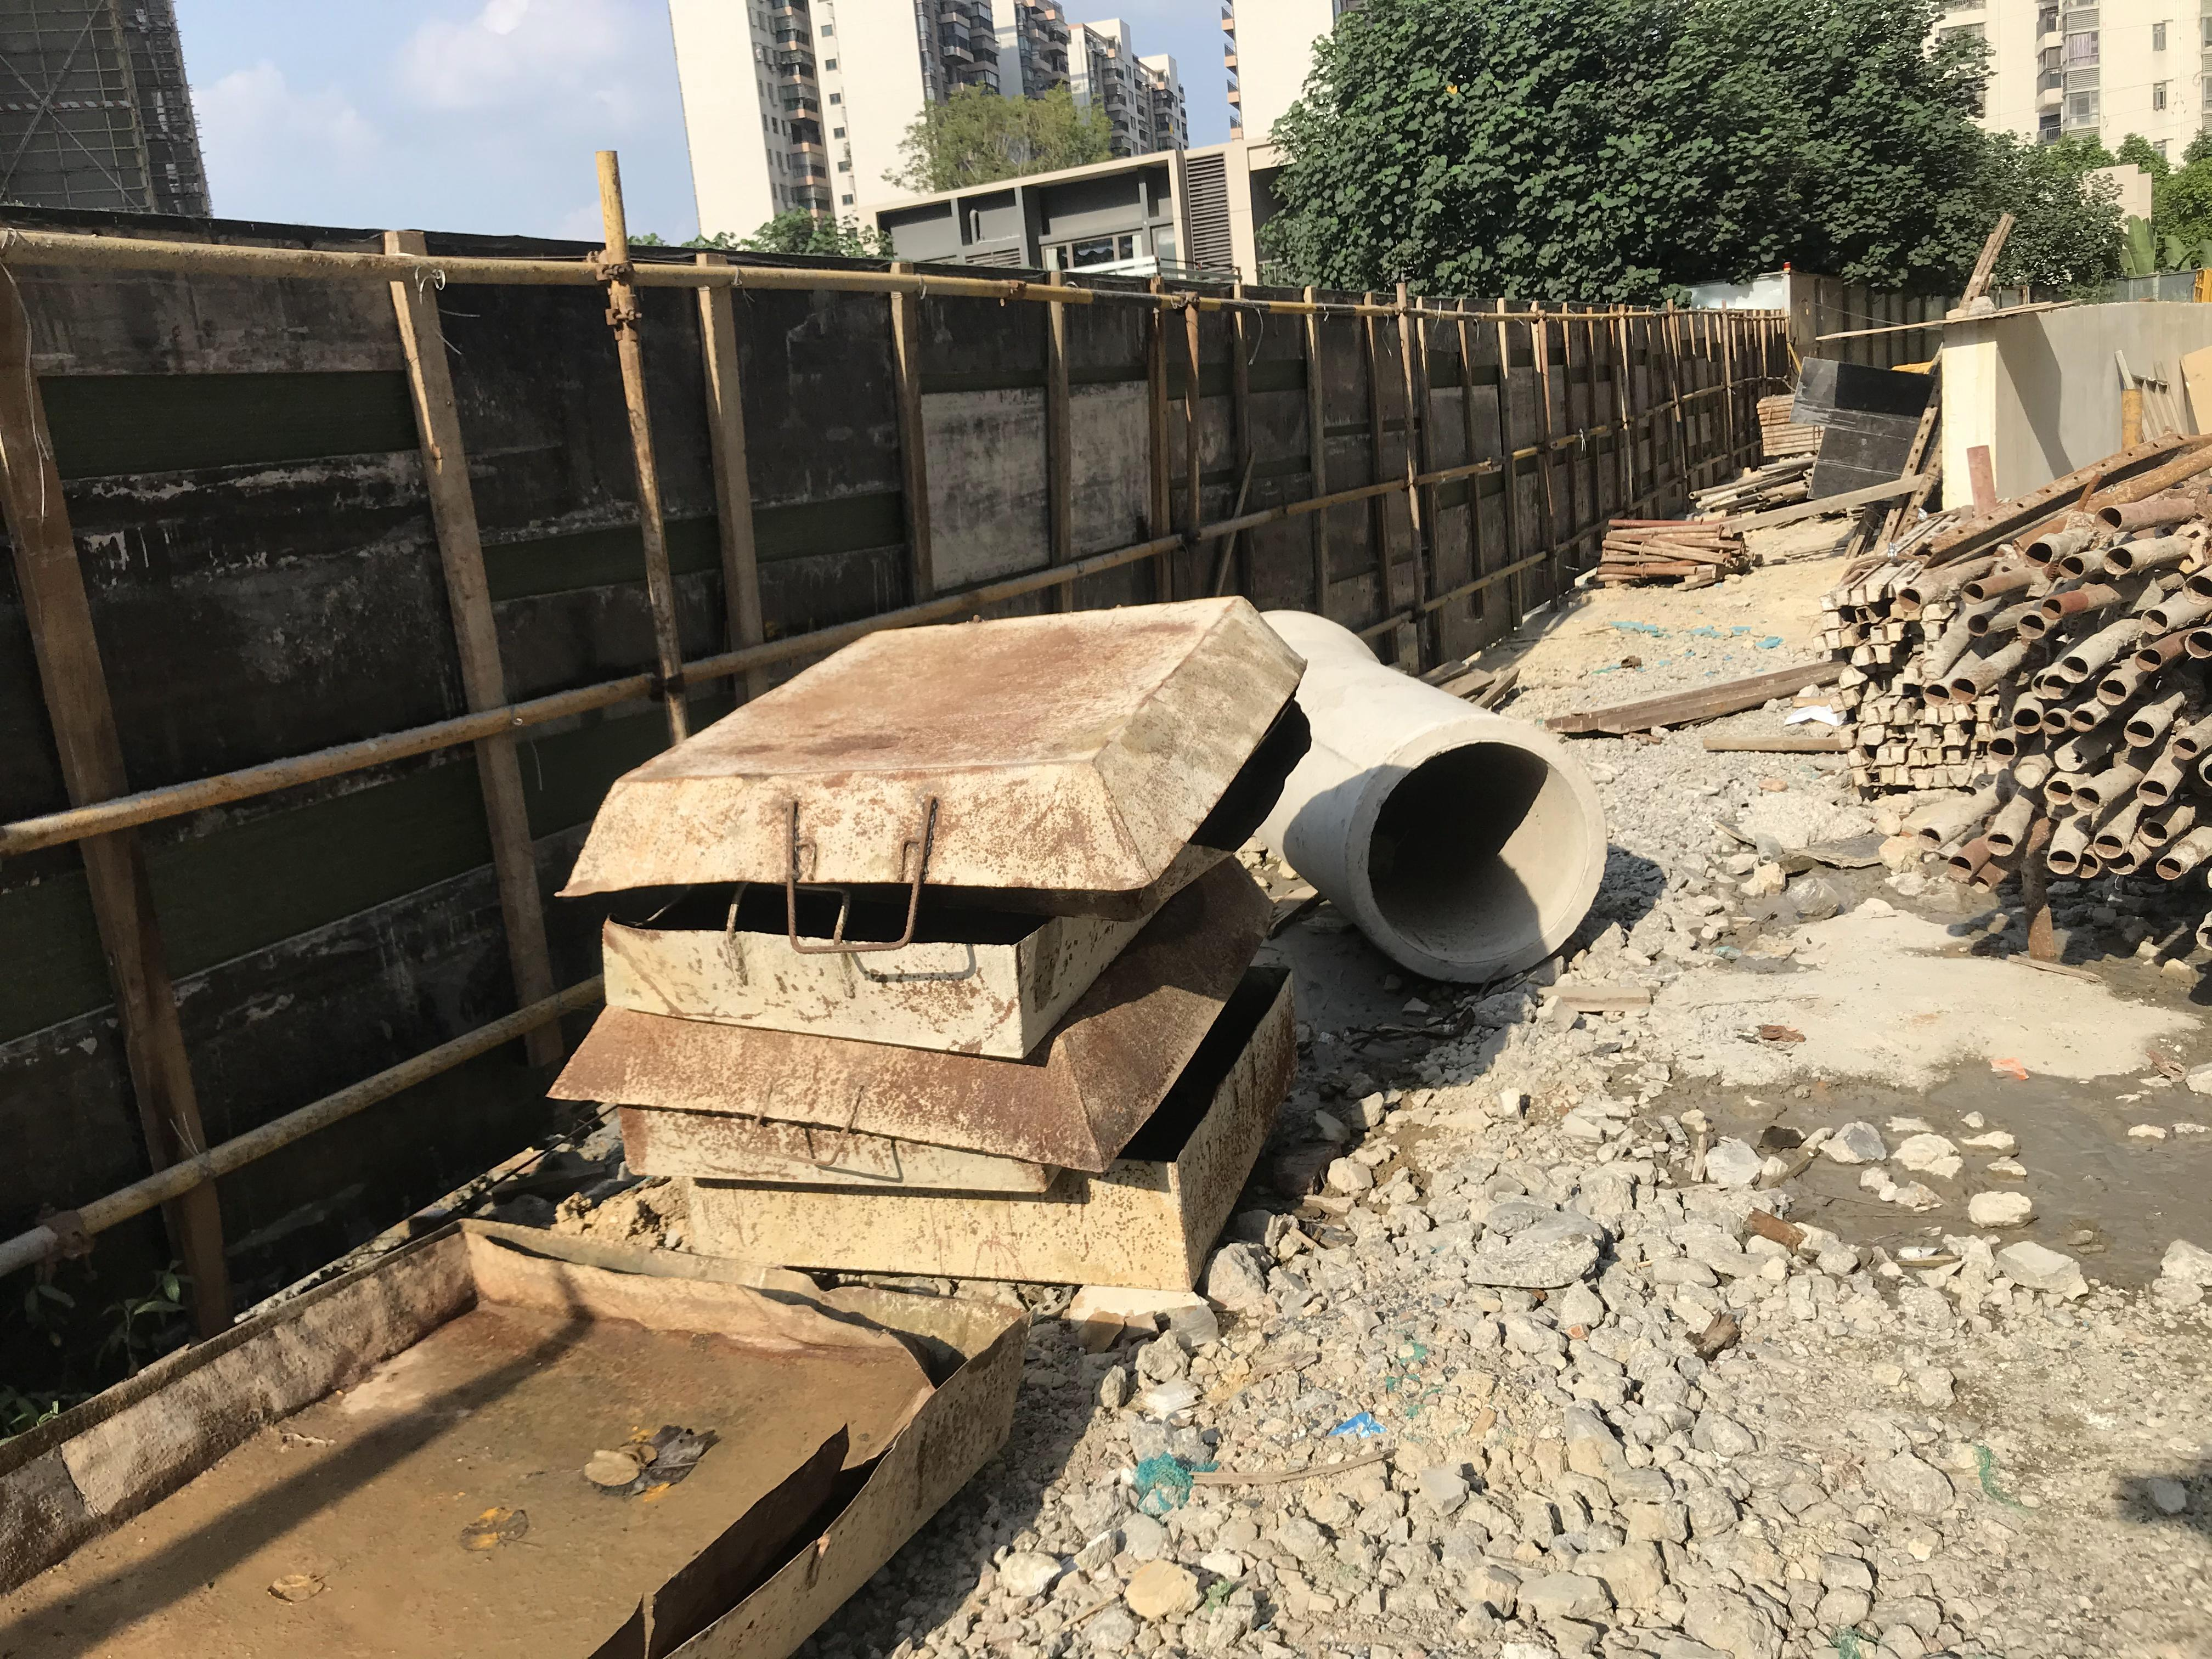hopper: (564, 598, 1324, 1291), (5, 1187, 1066, 1654)
scaffold: (1923, 436, 2212, 885), (1599, 516, 1745, 589)
